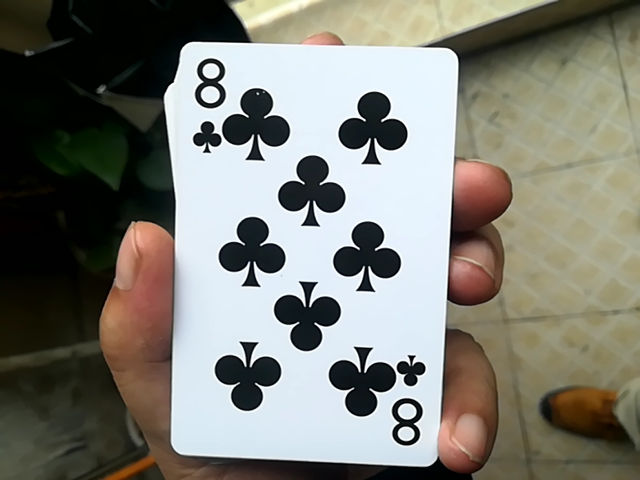mh 8: (147, 25, 452, 455)
